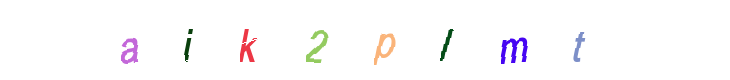2: (287, 0, 367, 80)
A: (168, 0, 248, 80)
I: (206, 0, 286, 80)
K: (278, 0, 358, 80)
L: (325, 0, 405, 80)
M: (474, 0, 554, 80)
P: (324, 0, 404, 80)
T: (509, 0, 589, 80)
